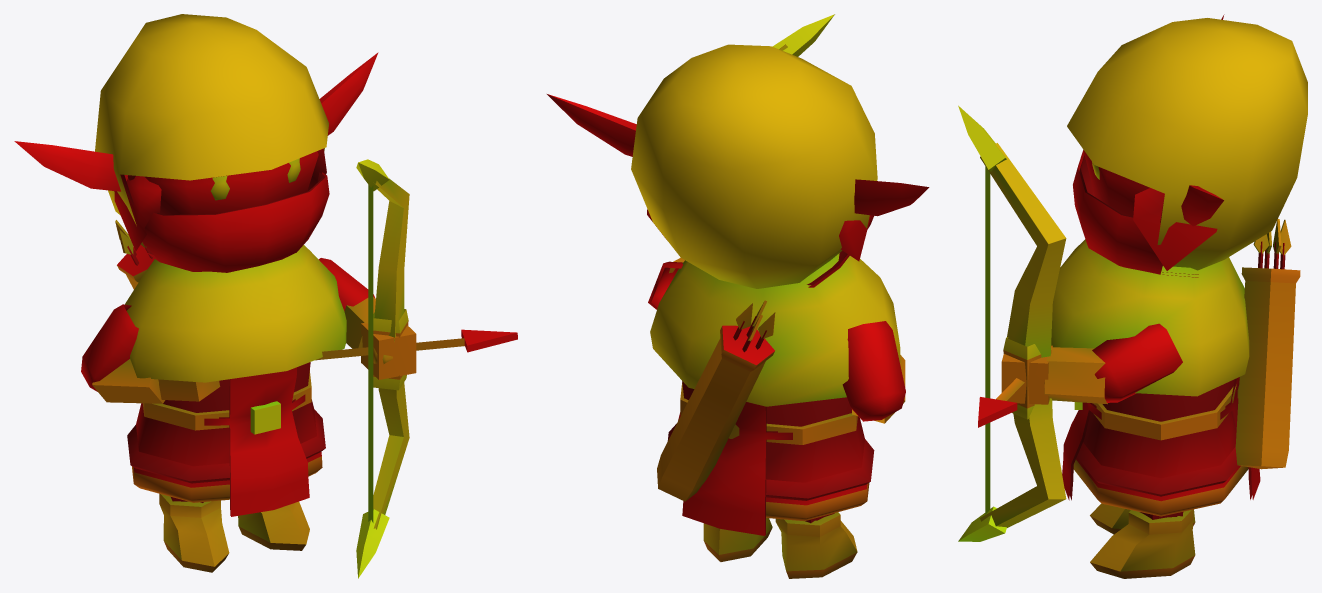
The model's file is DarkElfArcher_LOD1.glb.
3 renders of one model, left to right at view 1: azimuth 30°, elevation 25°; view 2: azimuth 150°, elevation 25°; view 3: azimuth 270°, elevation 25°, orthographic. The views are drawn at different scales.
Visible parts, largest first — view 1: DarkElfArcher_LOD1; view 2: DarkElfArcher_LOD1; view 3: DarkElfArcher_LOD1.
Part boxes in pixels (x1,y1,x2,y2): DarkElfArcher_LOD1: (14,14,517,578); DarkElfArcher_LOD1: (547,14,929,578); DarkElfArcher_LOD1: (958,14,1307,578).
Bounding box in the file's own units: 0.6993 × 0.8531 × 0.5237.
